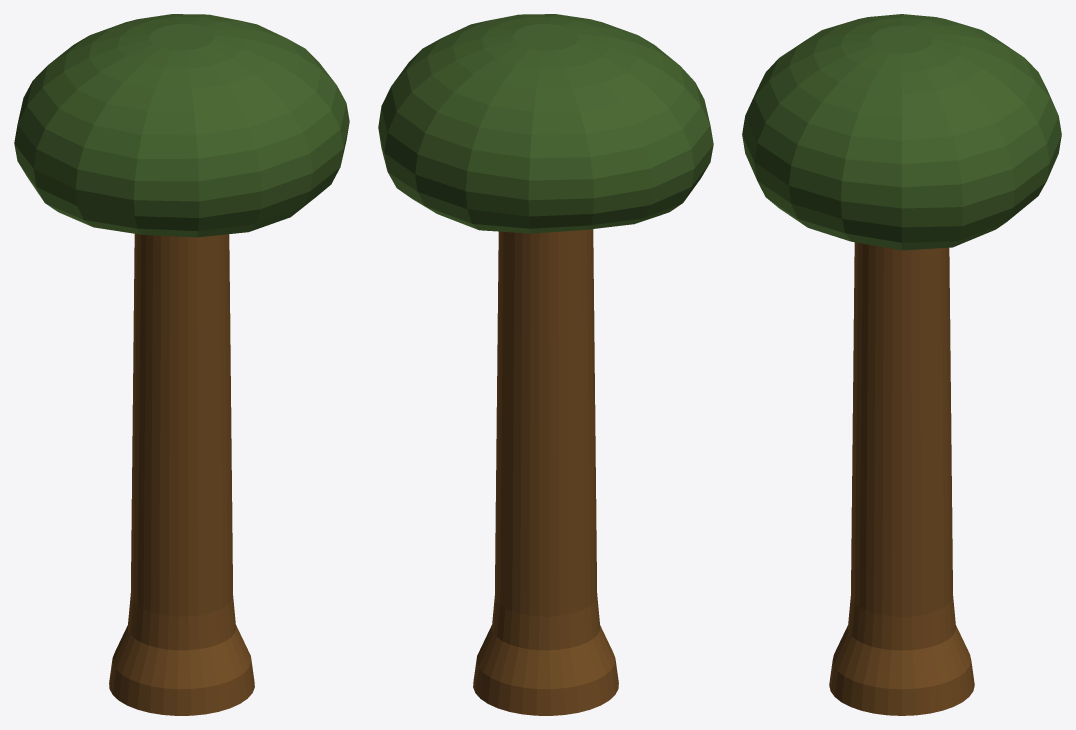
File: FshaderTest.fbx
3 views of the same model, side by side, from view 1: azimuth 30°, elevation 25°; view 2: azimuth 150°, elevation 25°; view 3: azimuth 270°, elevation 25° (orthographic).
Parts seen in each view (by area): view 1: ShaderTest.001; view 2: ShaderTest.001; view 3: ShaderTest.001.
Part boxes in pixels (x1,y1,x2,y2): ShaderTest.001: (14,14,349,715); ShaderTest.001: (378,14,713,715); ShaderTest.001: (742,14,1061,715).
Size of the model in its own units: 1013 by 2114 by 949.
